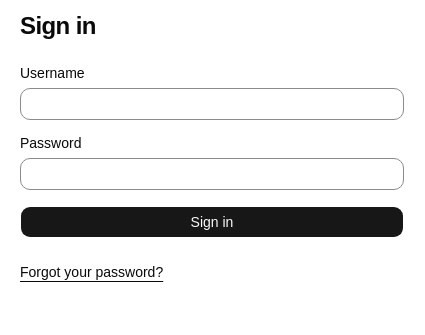
Test: the sign-in page › shows fixed text for a rejected sign-in, never the host's own 401 wording
Type "ada.lovelace" into the field labelled "Username" at (212, 104), box [20, 88, 404, 120]
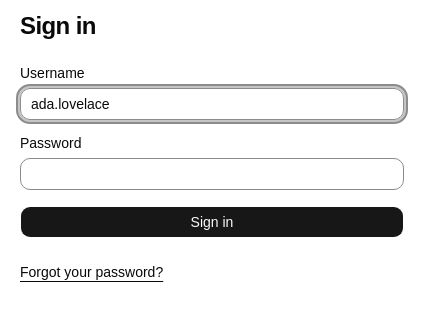
Type "correct horse battery staple" into the password field labelled "Password" at (212, 174), box [20, 158, 404, 190]
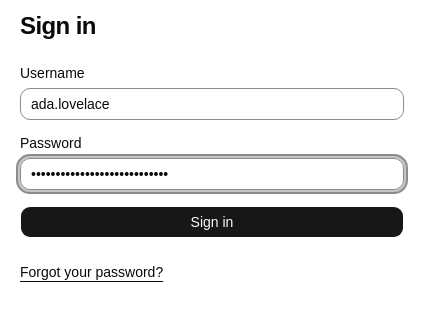
Click the button "Sign in" at (212, 222), box [20, 206, 404, 238]
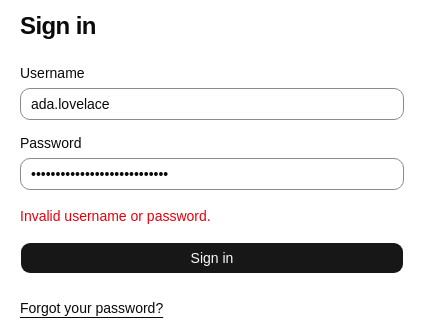
Check: the message reads "Invalid username or password.", box [20, 208, 211, 224]
